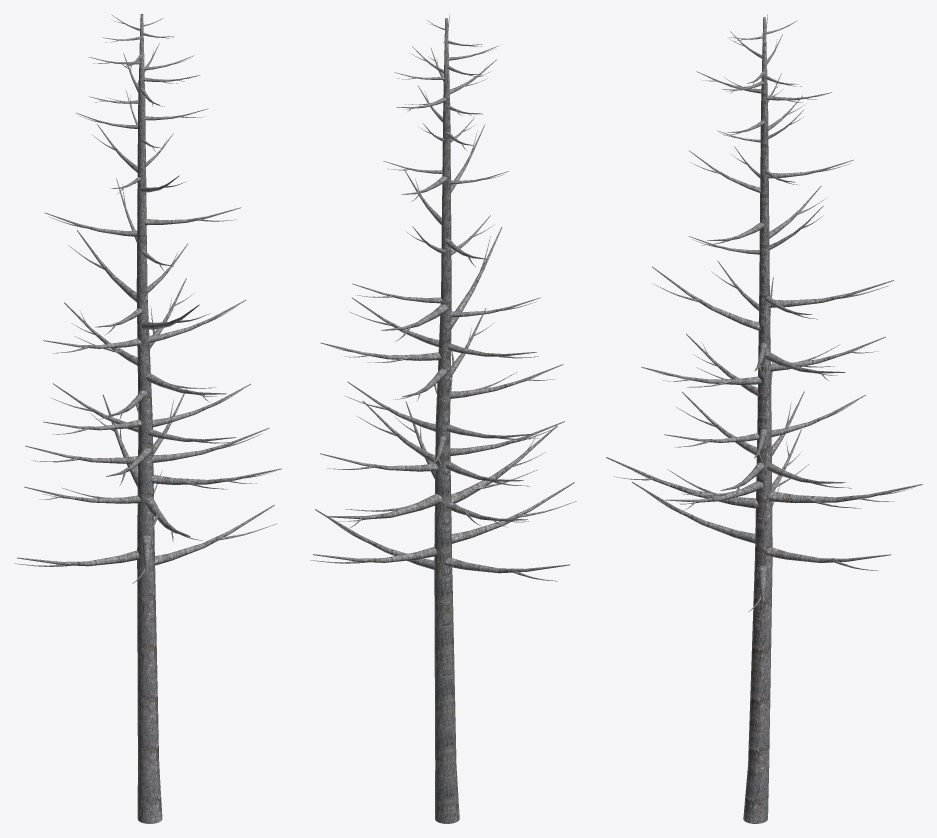
The model's file is PineTree.dae.
3 renders of one model, left to right at view 1: azimuth 30°, elevation 25°; view 2: azimuth 150°, elevation 25°; view 3: azimuth 270°, elevation 25°, orthographic.
Visible parts, largest first — view 1: pineTrunk1, pineBranch12 (×2), __pineBranch1 (×2), pineBranch; view 2: pineTrunk1, pineBranch12 (×4), __pineBranch1 (×2), __pineBranch1_1_2 (×2), pineBranch (×2); view 3: pineTrunk1, __pineBranch1 (×2), pineBranch12 (×2).
Part boxes in pixels (<box>): pineTrunk1: <box>136,14,162,823</box>; pineBranch12 (×2): <box>17,504,274,566</box>; __pineBranch1 (×2): <box>24,468,281,503</box>; pineBranch: <box>152,428,269,462</box>; pineTrunk1: <box>434,18,459,823</box>; pineBranch12 (×4): <box>313,482,574,573</box>; __pineBranch1 (×2): <box>326,425,557,519</box>; __pineBranch1_1_2 (×2): <box>320,342,563,398</box>; pineBranch (×2): <box>320,421,564,471</box>; pineTrunk1: <box>743,17,772,823</box>; __pineBranch1 (×2): <box>606,457,922,508</box>; pineBranch12 (×2): <box>632,482,891,562</box>.
Bounding box in the file's own units: 256 × 275 × 765.
2 materials, 2 textured.
